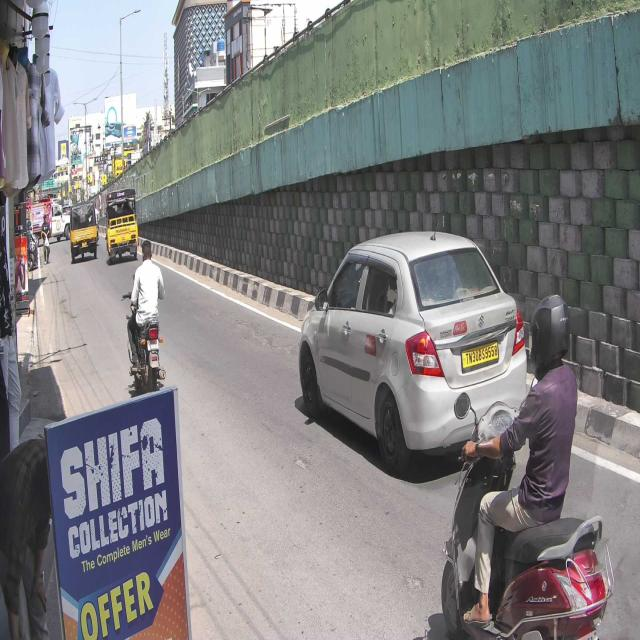single_rider: (439, 289, 611, 640)
